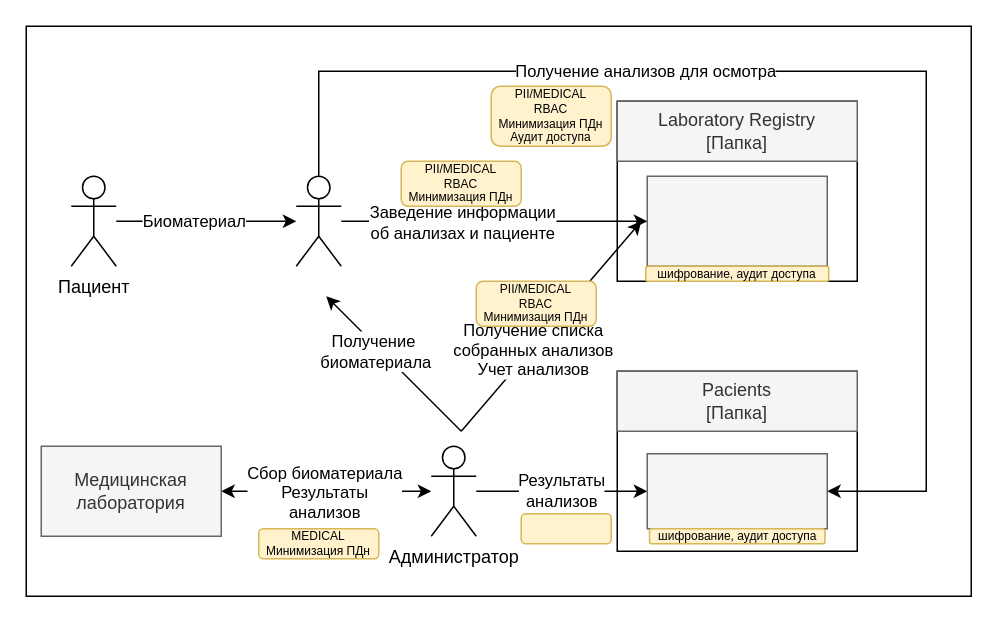
This 998x623 diagram has some shape labels left out. The shapes that lost their labels are listed below. From the top down, each one's centre as x and y in pixels, then its label:
pixel 318 220: Врач
pixel 736 220: Реестр анализов за день [Excel]
pixel 736 490: Файлы пациента в разных форматах
pixel 565 528: MEDICAL аудит доступа
